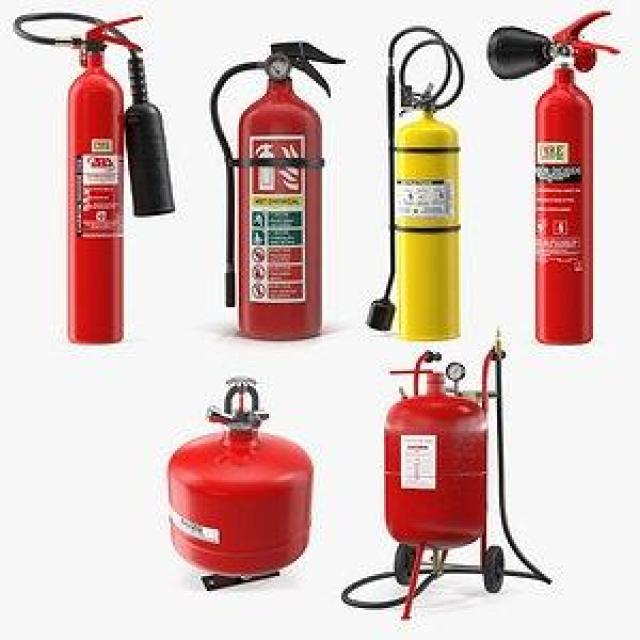fire_extinguisher: (10, 4, 180, 343), (481, 3, 624, 349), (204, 36, 346, 342), (358, 20, 468, 345), (161, 366, 319, 581), (375, 348, 498, 554)
